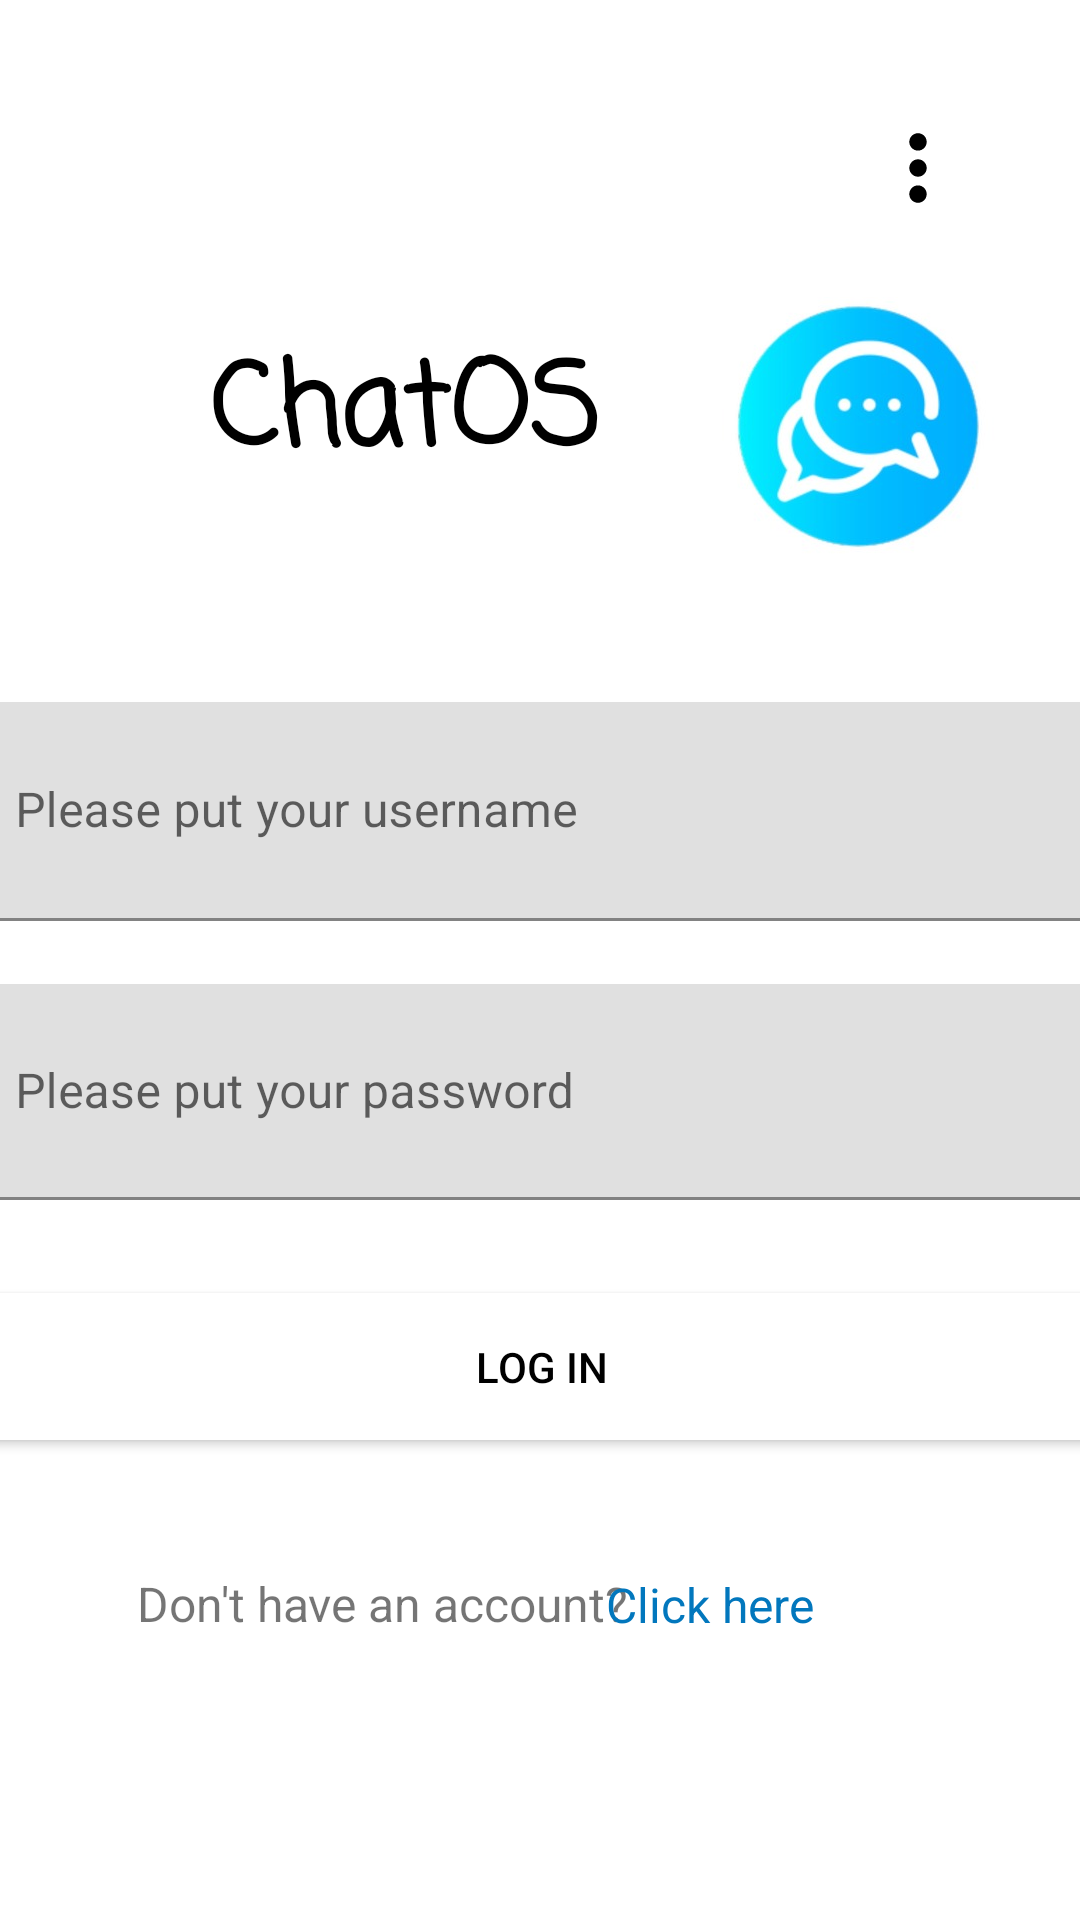

Locate icon controls on the screen. Image size 1080px×1920px, boxes as (x1, y1, x2, y2).
settings button: (909, 133, 927, 203)
